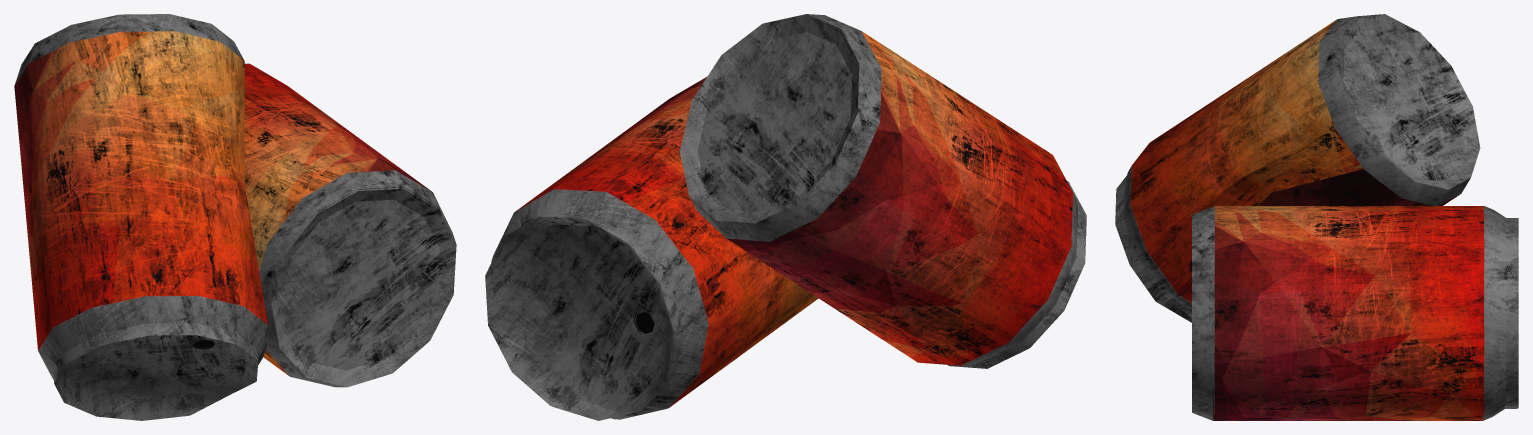
The model's file is kaleng.fbx.
3 renders of one model, left to right at view 1: azimuth 30°, elevation 25°; view 2: azimuth 150°, elevation 25°; view 3: azimuth 270°, elevation 25°, orthographic. The views are drawn at different scales.
Parts seen in each view (by area): view 1: 2, 1, 2.001, 1.001; view 2: 2, 2.001, 1, 1.001; view 3: 2.001, 2, 1.
Boxes of the visible parts, box(x1,y1,x2,y2) form: 2: box(14, 14, 268, 420); 1: box(252, 187, 453, 387); 2.001: box(244, 63, 456, 292); 1.001: box(263, 189, 456, 387); 2: box(680, 14, 1086, 368); 2.001: box(485, 76, 727, 412); 1: box(498, 219, 818, 420); 1.001: box(487, 217, 817, 420); 2.001: box(1193, 206, 1518, 420); 2: box(1115, 14, 1480, 322); 1: box(1192, 214, 1517, 420).
Size of the model in its own units: 35.19 by 29.71 by 33.43.
